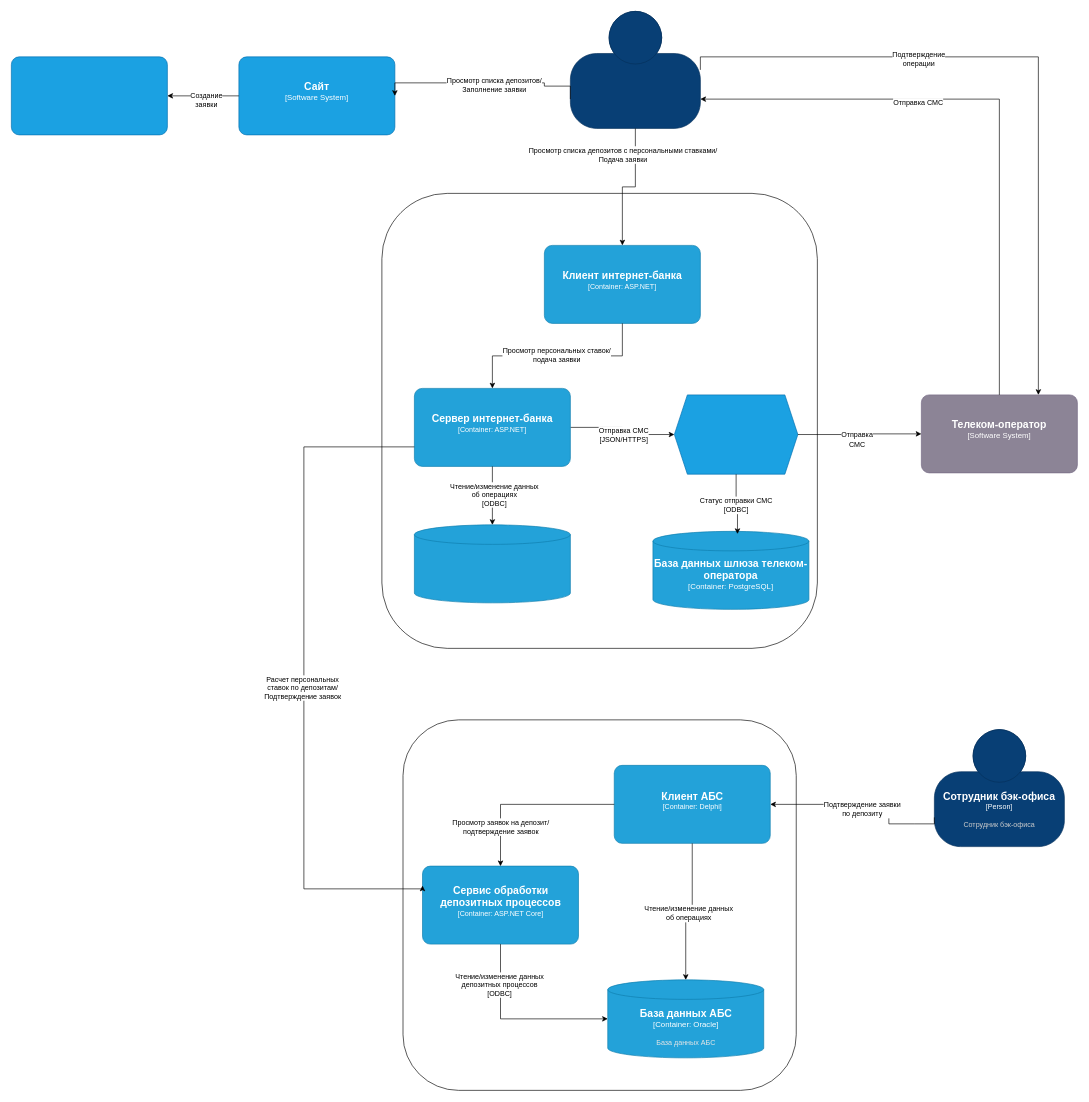
Some shapes in this 1089 by 1102 pixel diagram are drawn without their labels. The shapes that lost their labels are listed below. From the top down, each one's box as (x1, y1, x2, y2) in pixels, then its label:
(570, 11, 700, 128): Клиент [Person] Клиент
(11, 56, 167, 135): Система кол-центра [Software System]
(674, 394, 798, 474): Шлюз телеком-оператора [Container: PHP]
(414, 524, 570, 603): База данных интернет-банка [Container: MSSQL] База данных интернет-банка
